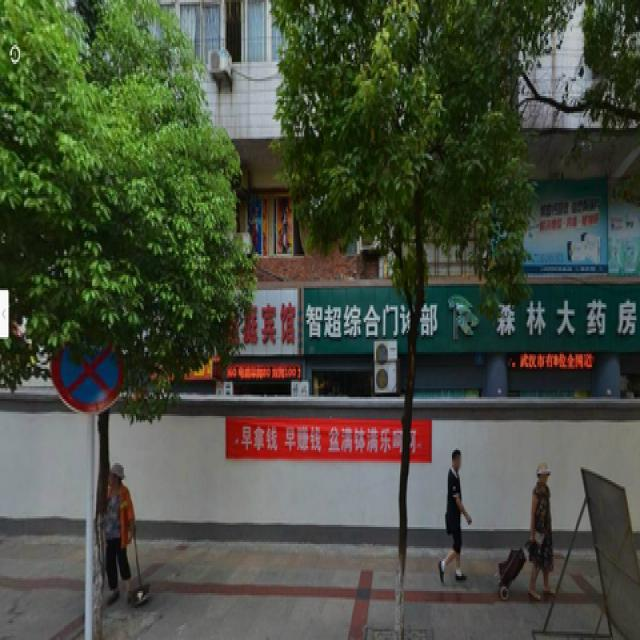cinn: (311, 23, 478, 630)
